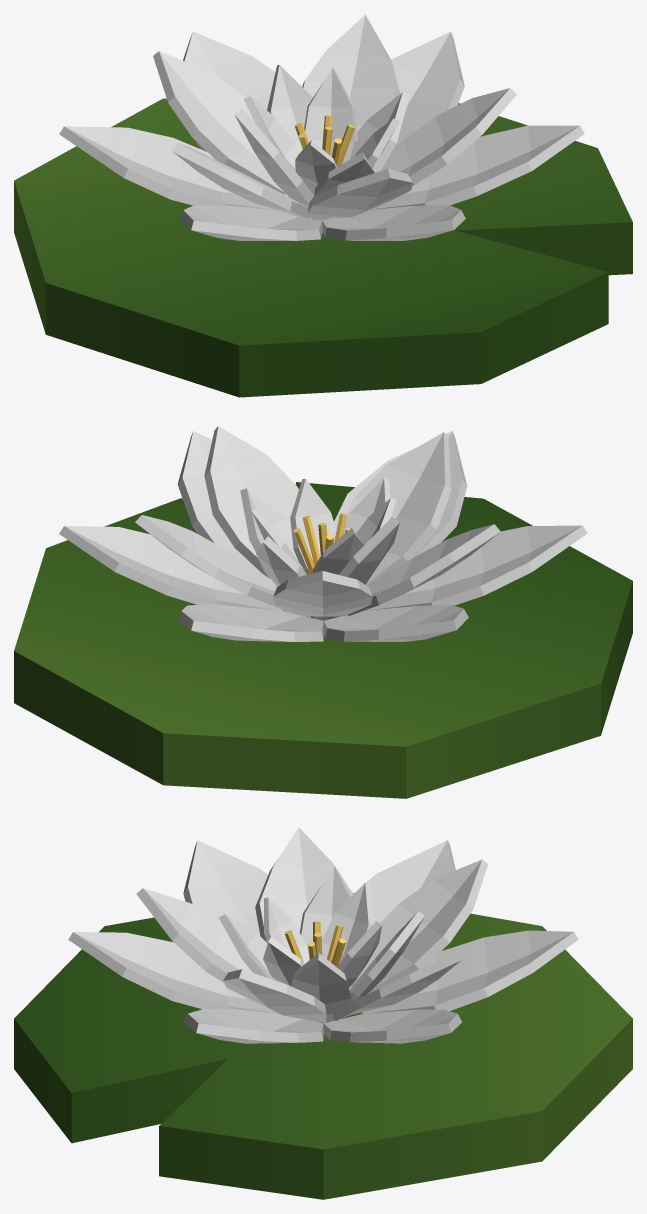
The model's file is water lily white.fbx.
3 views of the same model, one above another, from view 1: azimuth 30°, elevation 25°; view 2: azimuth 150°, elevation 25°; view 3: azimuth 270°, elevation 25° (orthographic). The views are drawn at different scales.
Visible parts, largest first — view 1: water lily white; view 2: water lily white; view 3: water lily white.
Part boxes in pixels (x1,y1,x2,y2): water lily white: (14, 14, 632, 397); water lily white: (14, 426, 632, 798); water lily white: (14, 827, 632, 1199).
Bounding box in the file's own units: 63.18 × 19.28 × 63.18.
